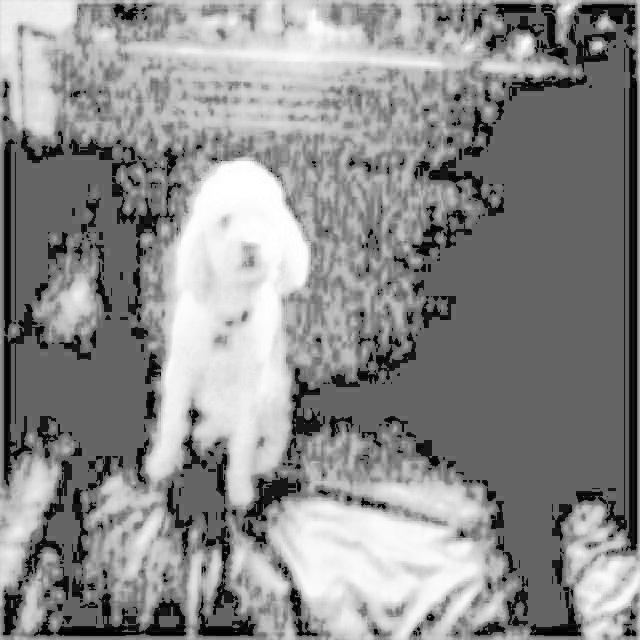Dog: (134, 152, 316, 511)
